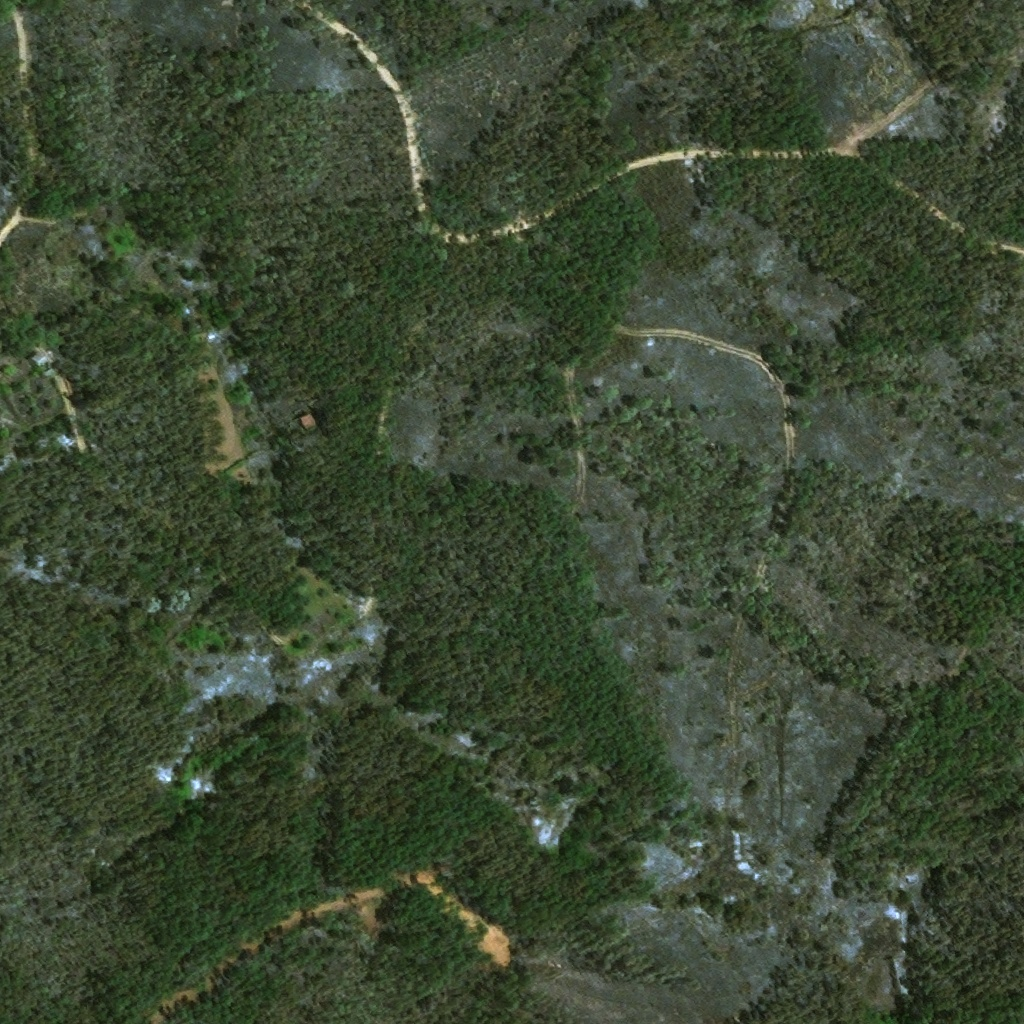0 no-damage: (30, 349, 51, 369), (300, 411, 318, 429)
